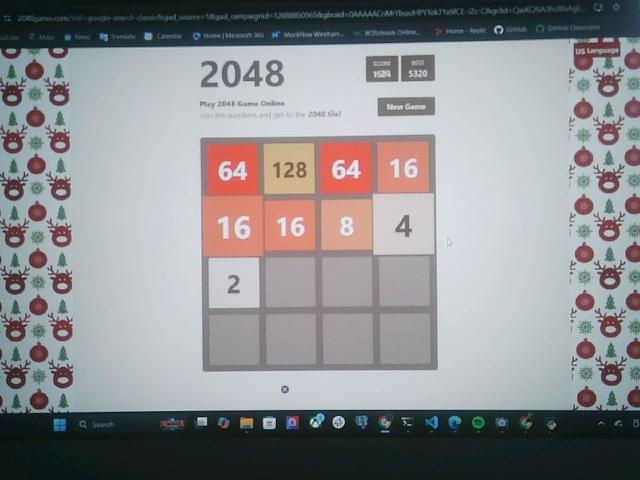board: (201, 136, 437, 371)
tile: (373, 193, 434, 255), (202, 197, 263, 255), (377, 140, 429, 193), (209, 256, 261, 308), (206, 143, 258, 194), (264, 143, 316, 194), (320, 142, 372, 193), (322, 199, 373, 251), (265, 200, 315, 249)
